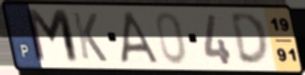0: (154, 10, 190, 67)
4: (202, 11, 234, 67)
A: (119, 10, 161, 65)
D: (228, 11, 271, 68)
K: (70, 10, 110, 64)
M: (23, 7, 83, 67)
